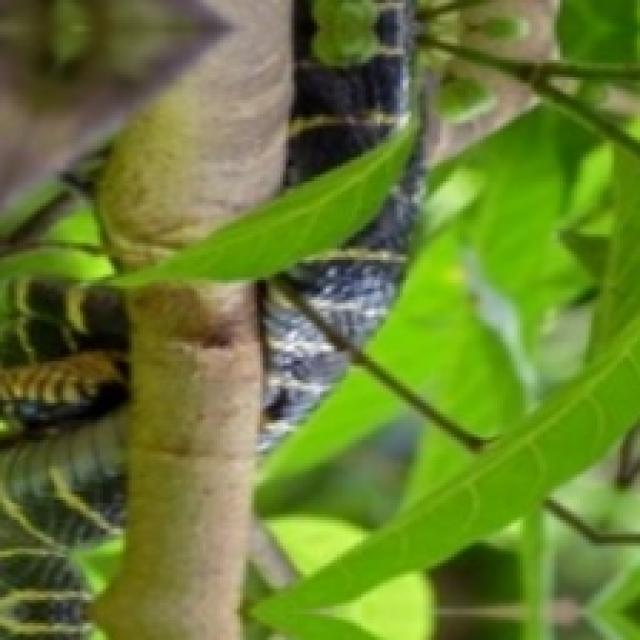mangrove cat snake: (0, 271, 128, 639), (290, 152, 422, 341), (285, 0, 411, 186), (259, 285, 349, 452)
